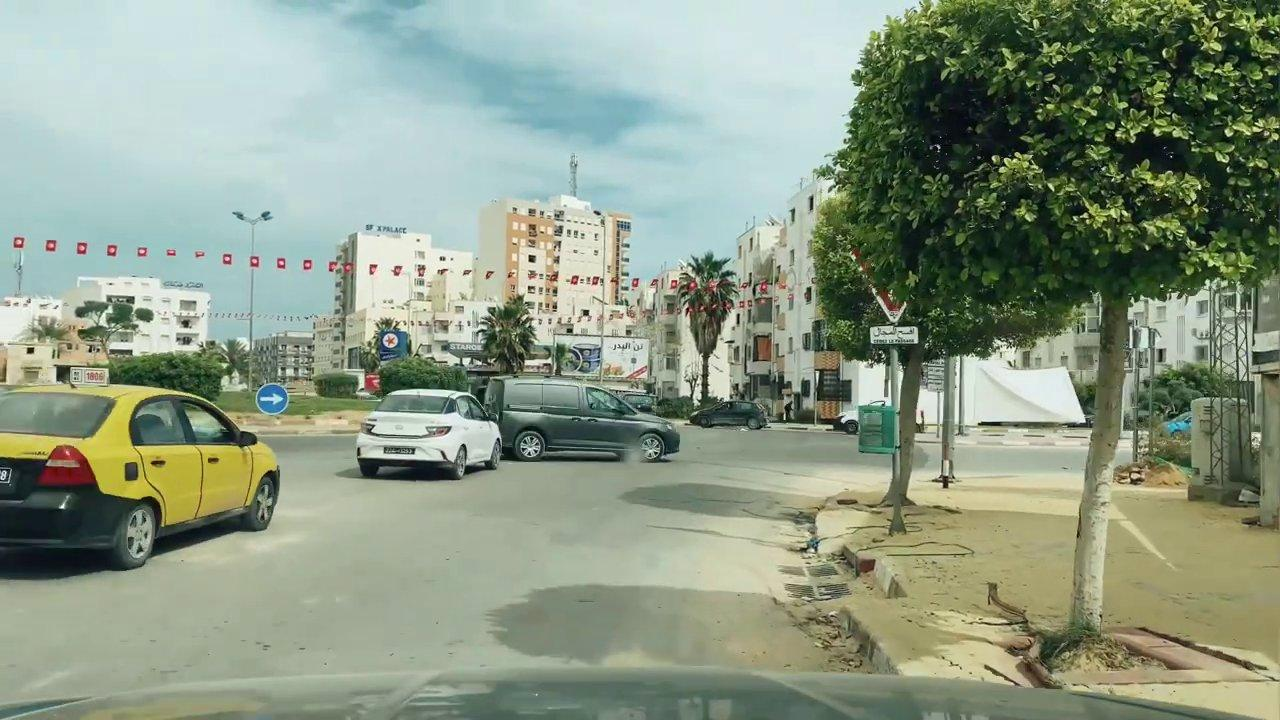turn right: (252, 381, 291, 417)
